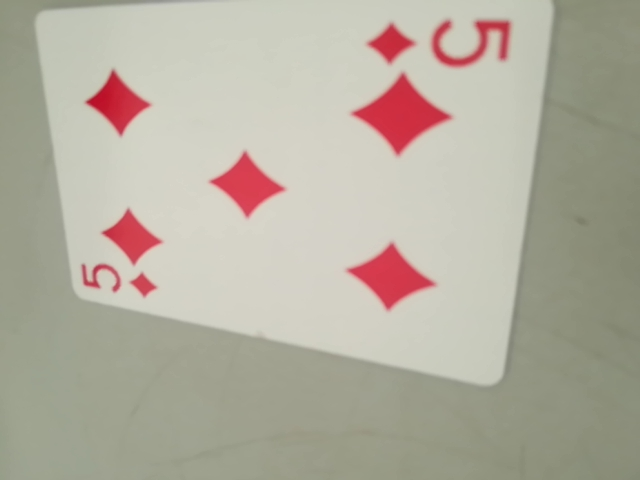fk 5: (360, 8, 517, 76), (77, 258, 161, 305)
